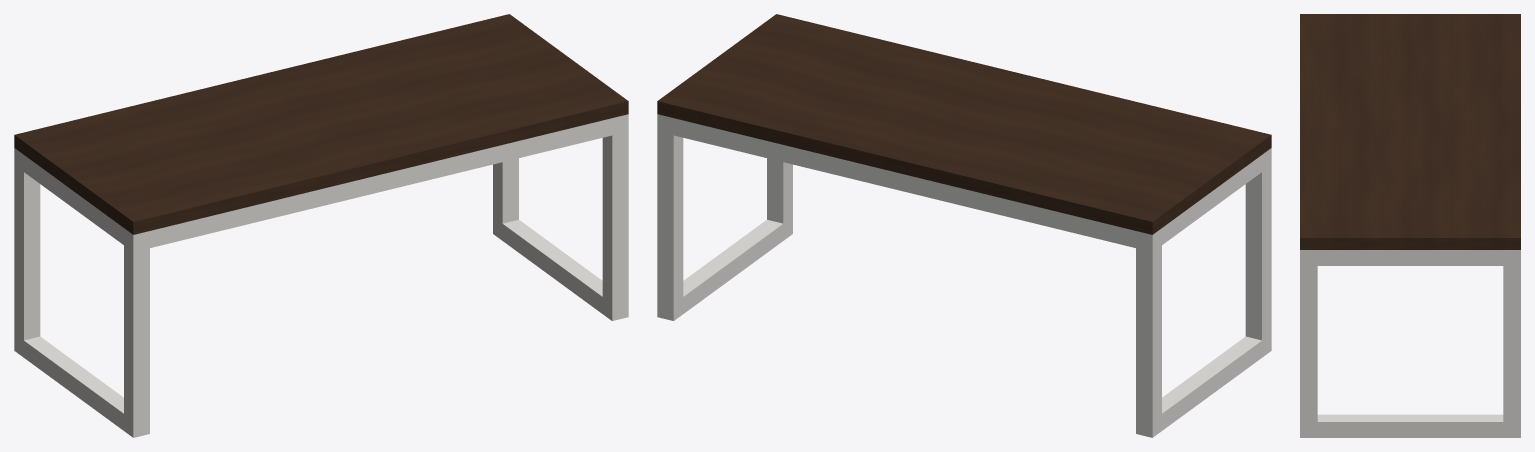
Rendered from mesa-living-nord-ebano-blanco-4cm.glb.
3 views of the same model, side by side, from view 1: azimuth 30°, elevation 25°; view 2: azimuth 150°, elevation 25°; view 3: azimuth 270°, elevation 25° (orthographic). The views are drawn at different scales.
Parts seen in each view (by area): view 1: Tapa de madera maciza 120 x 50 cm, Pata recta de hierro 4 x 4 cm (×4), Larguero longitudinal superior recto, Travesaño inferior recto (×2), Travesaño superior recto; view 2: Tapa de madera maciza 120 x 50 cm, Pata recta de hierro 4 x 4 cm (×4), Larguero longitudinal superior recto, Travesaño inferior recto (×2), Travesaño superior recto; view 3: Tapa de madera maciza 120 x 50 cm, Pata recta de hierro 4 x 4 cm (×2), Travesaño inferior recto, Travesaño superior recto.
Boxes of the visible parts, box(x1,y1,x2,y2) form: Tapa de madera maciza 120 x 50 cm: box(14, 14, 628, 234); Pata recta de hierro 4 x 4 cm (×4): box(14, 114, 628, 437); Larguero longitudinal superior recto: box(150, 118, 612, 247); Travesaño inferior recto (×2): box(19, 219, 602, 430); Travesaño superior recto: box(19, 153, 128, 247); Tapa de madera maciza 120 x 50 cm: box(657, 14, 1271, 234); Pata recta de hierro 4 x 4 cm (×4): box(657, 114, 1271, 437); Larguero longitudinal superior recto: box(673, 118, 1135, 247); Travesaño inferior recto (×2): box(679, 219, 1266, 430); Travesaño superior recto: box(1162, 154, 1266, 244); Tapa de madera maciza 120 x 50 cm: box(1300, 14, 1520, 249); Pata recta de hierro 4 x 4 cm (×2): box(1300, 250, 1520, 437); Travesaño inferior recto: box(1309, 414, 1511, 437); Travesaño superior recto: box(1309, 250, 1511, 265).
Bounding box in the file's own units: 1.2 × 0.5 × 0.5.
2 materials, 1 textured.
